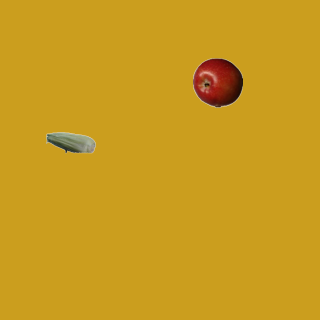Apple Braeburn: (192, 57, 242, 107)
Corn Husk: (45, 117, 95, 167)
